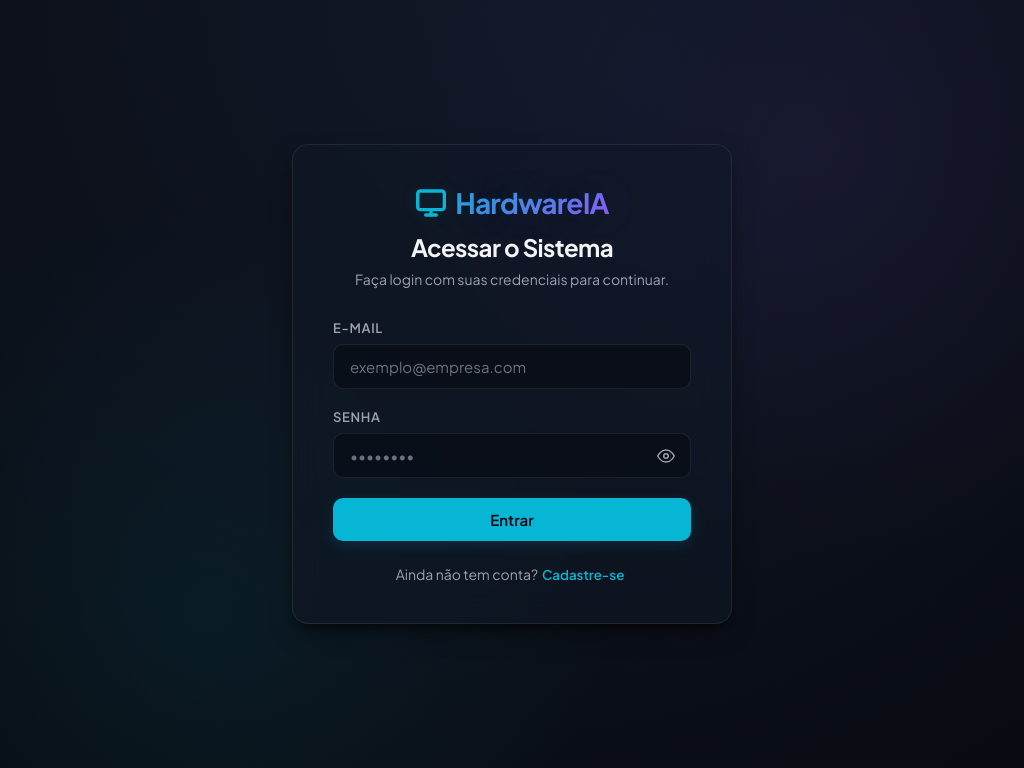
Test case: Sistema de Autenticação - Fluxos de Cadastro, Login, Logout e Verificação › Cadastro com e-mail duplicado deve exibir erro claro
The image size is (1024, 768).
Click the button "Cadastre-se" at (583, 574), box [538,566,628,583]
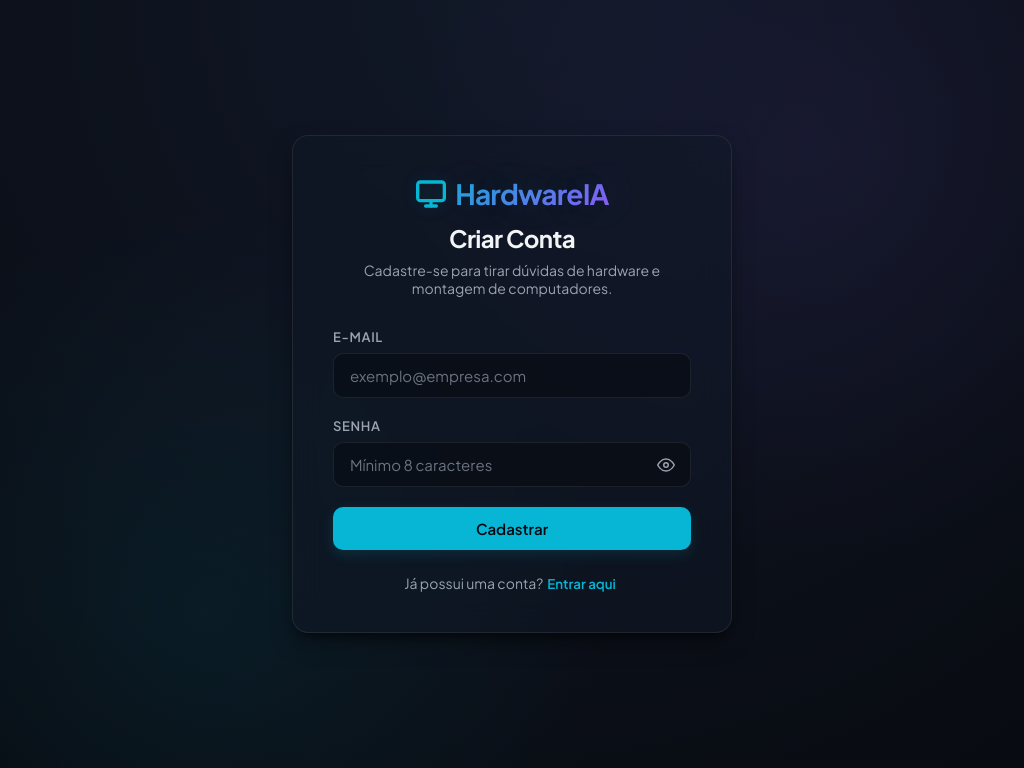
Type "duplicado@empresa.com" into the field labelled "E-mail" at (512, 376), box [333,353,691,398]
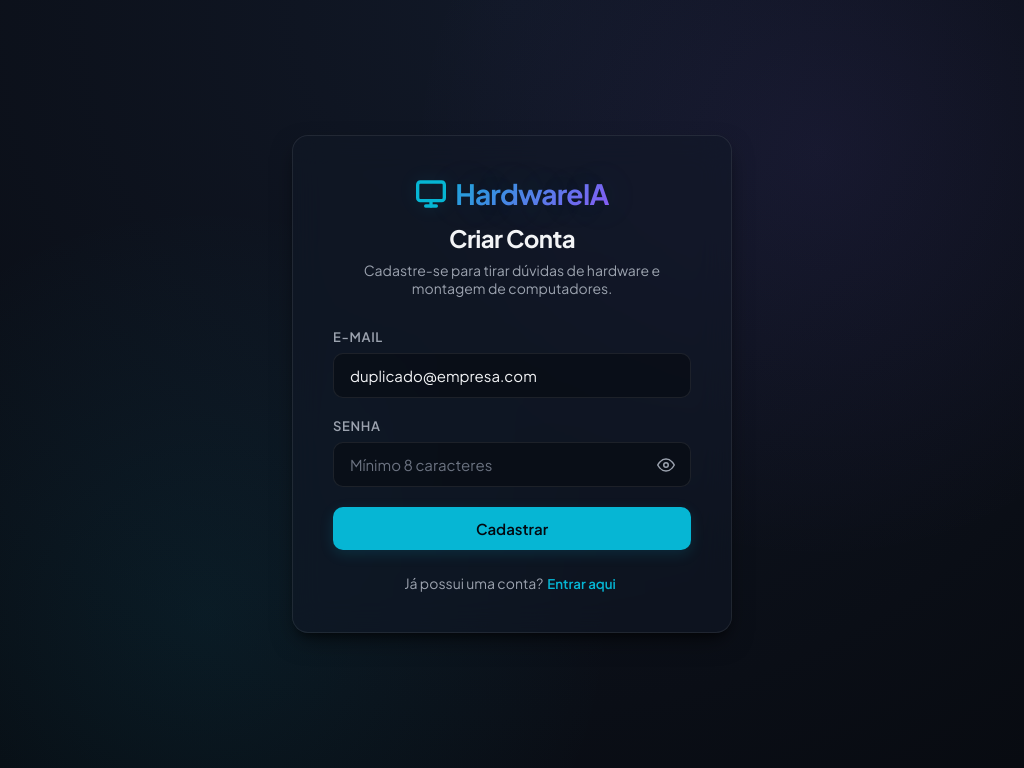
Type "SenhaForte123" into the password field labelled "Senha" at (512, 464), box [333,442,691,487]
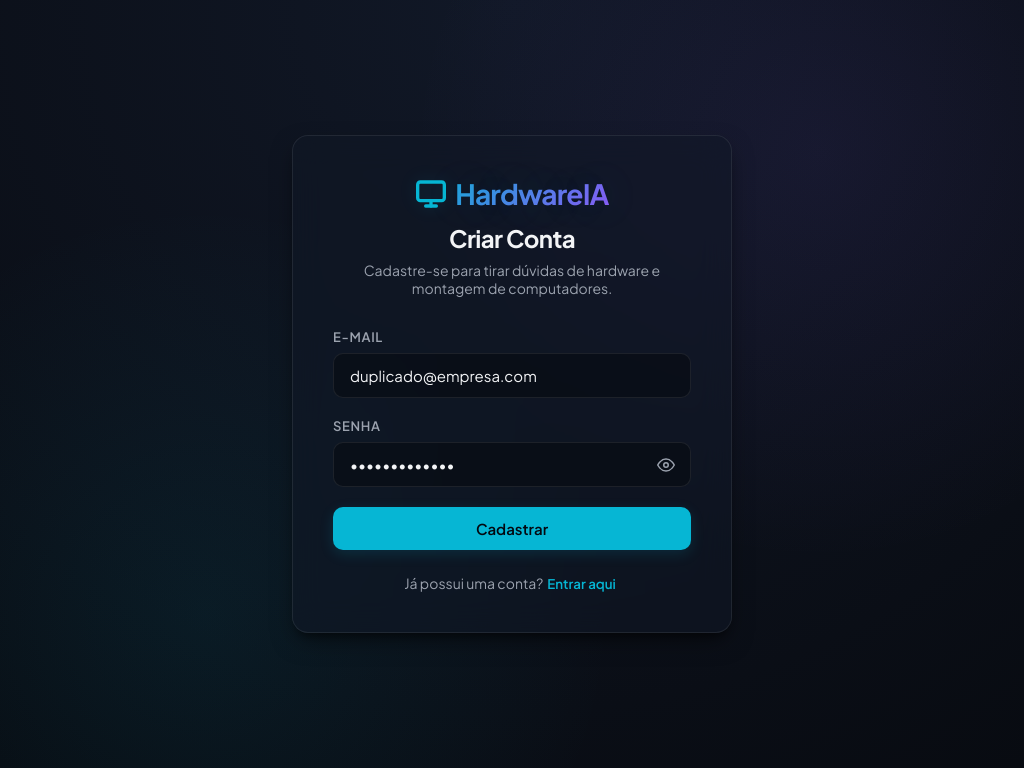
Click the button "Cadastrar" at (512, 528), box [333,507,691,550]
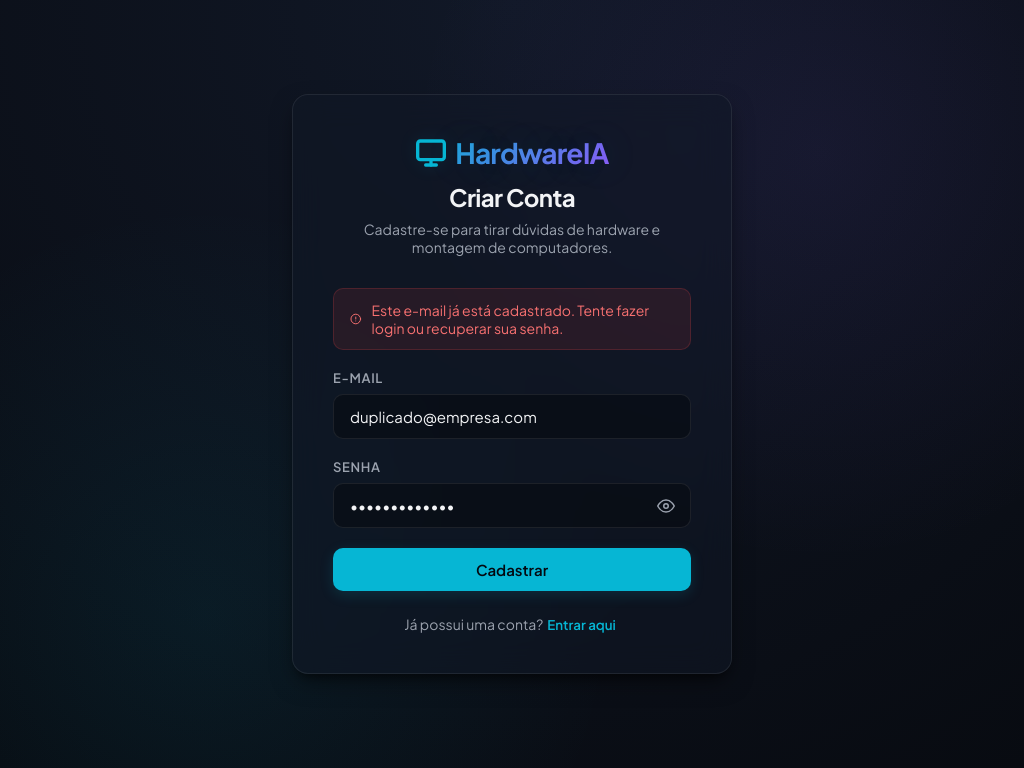
Check: the text "Este e-mail já está cadastrado" is shown, box [372,301,649,337]
